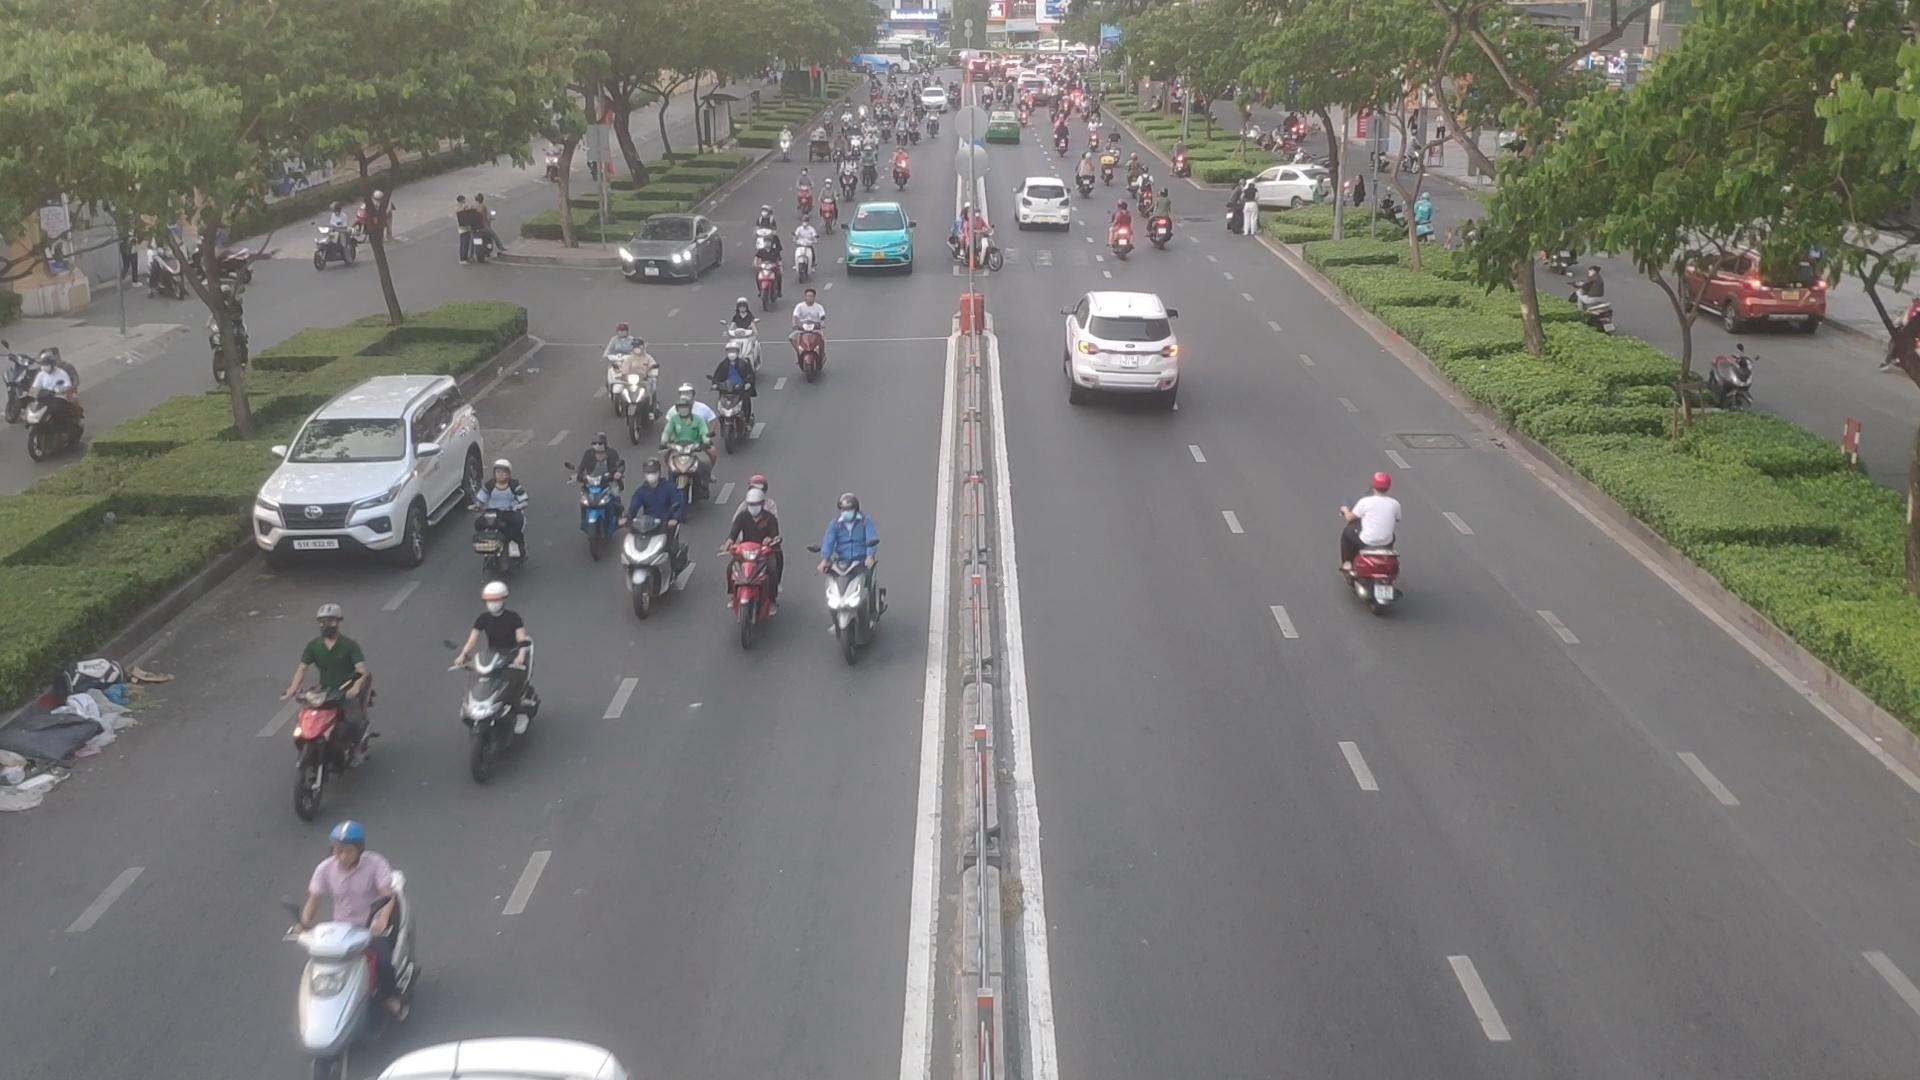car: (255, 376, 489, 568), (1062, 294, 1180, 396), (621, 218, 729, 286), (847, 204, 919, 268), (1018, 178, 1073, 232)
motorbike: (298, 836, 440, 1052), (808, 475, 890, 674), (291, 607, 369, 802), (723, 469, 796, 669), (462, 601, 547, 762), (1327, 463, 1415, 603), (628, 483, 695, 618), (571, 454, 626, 576), (625, 338, 676, 444), (667, 386, 713, 505), (576, 303, 625, 405), (787, 287, 833, 389), (708, 298, 757, 392), (945, 211, 996, 276), (749, 236, 795, 303), (473, 504, 527, 560), (721, 345, 748, 455), (1149, 185, 1180, 255), (1114, 200, 1139, 261), (815, 175, 841, 232), (749, 204, 777, 256), (795, 219, 819, 276), (835, 160, 862, 203), (890, 152, 916, 196), (1079, 156, 1102, 203), (857, 144, 878, 194), (1135, 165, 1155, 214), (795, 174, 815, 214)
